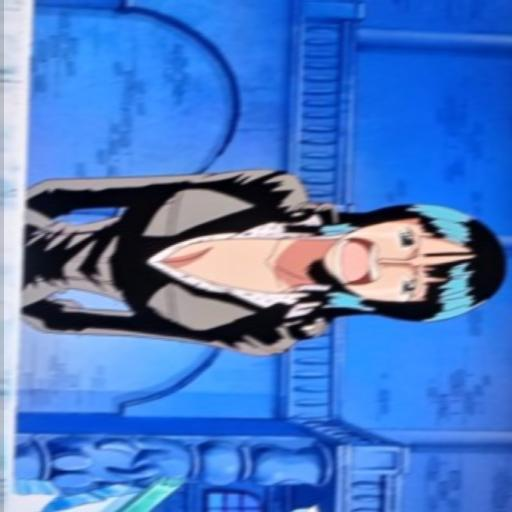NicoRobin: (293, 192, 504, 334)
